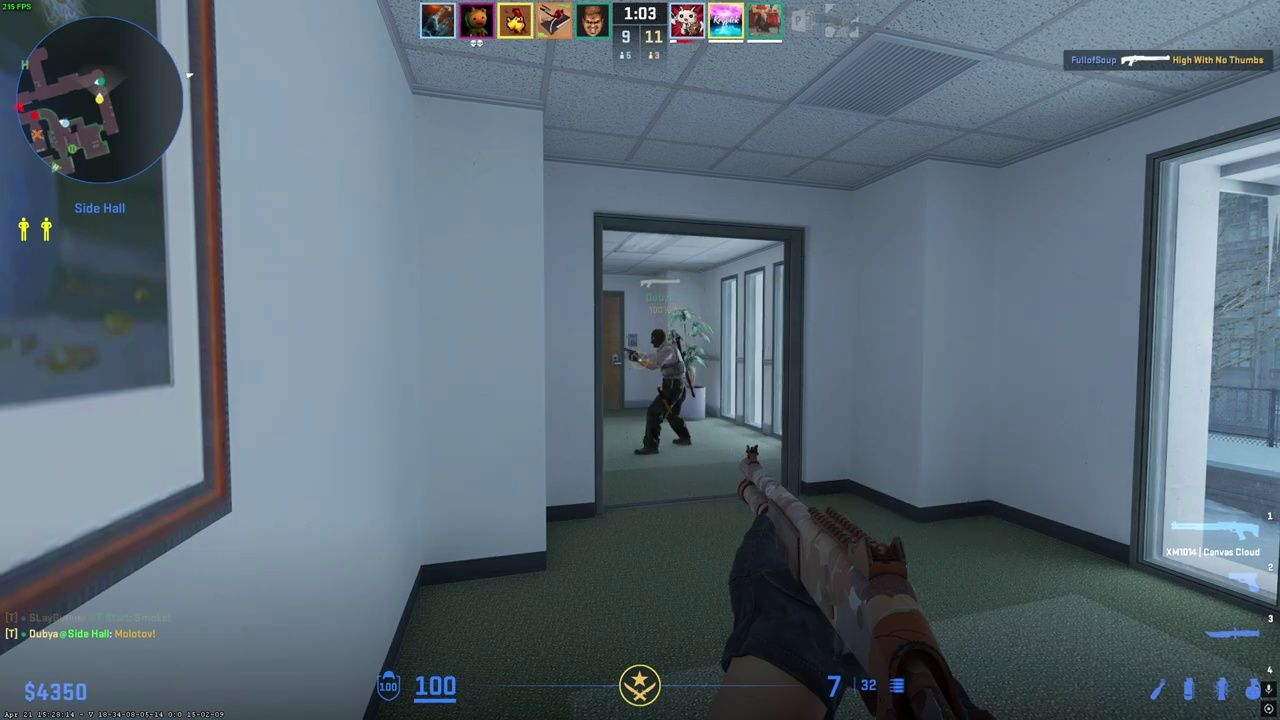Terrorist: (634, 328, 691, 455)
